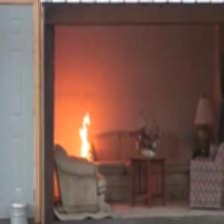fire: (67, 100, 108, 171)
